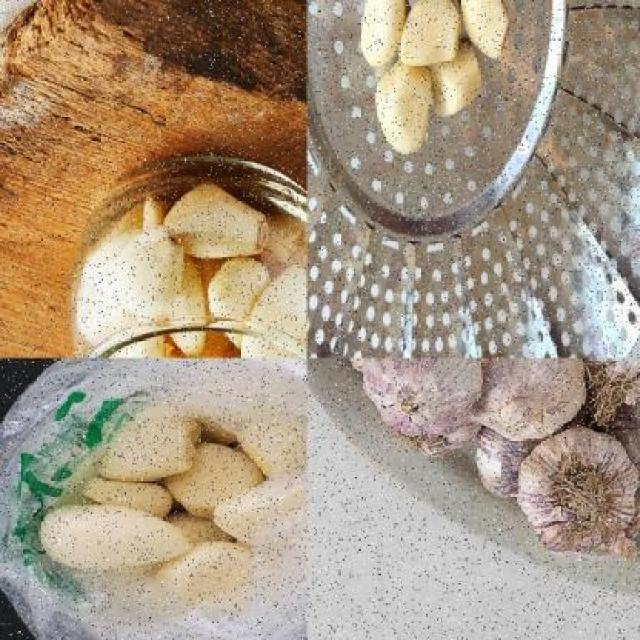garlic: (40, 417, 268, 616), (77, 185, 306, 358), (331, 0, 511, 157), (520, 428, 638, 558), (468, 358, 586, 442), (371, 358, 482, 438), (390, 0, 464, 71), (600, 378, 638, 500), (556, 358, 639, 407)
